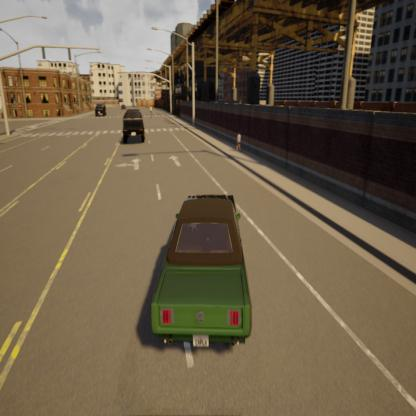Cars: (142, 184, 260, 369), (120, 107, 145, 143), (93, 101, 108, 120)
Pedestrian: (235, 127, 244, 155)
